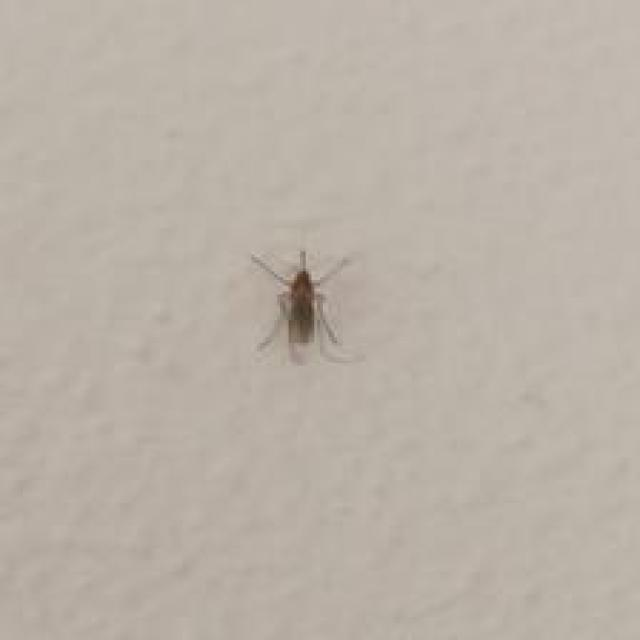Culex: (248, 247, 366, 367)
